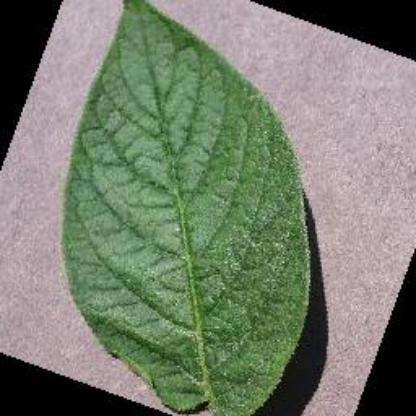Healthy-plant: (35, 2, 349, 416)
